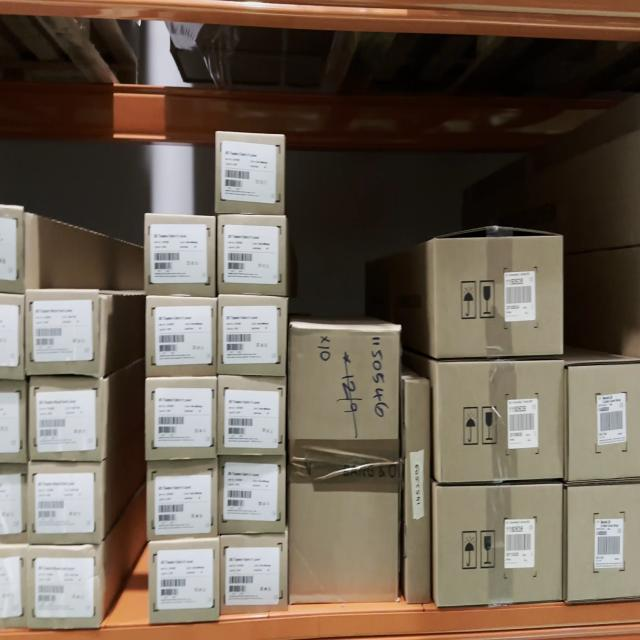box: (288, 326, 398, 600), (434, 360, 566, 484), (433, 237, 565, 360), (433, 480, 562, 601), (569, 364, 640, 485), (568, 484, 640, 598), (26, 289, 104, 376), (404, 376, 434, 602), (29, 458, 104, 546), (144, 294, 218, 376), (26, 378, 101, 458), (27, 548, 102, 628), (216, 129, 285, 215), (144, 215, 218, 295), (146, 458, 220, 538), (144, 379, 218, 458), (148, 541, 219, 622), (218, 375, 282, 459), (218, 294, 284, 374), (219, 210, 284, 288), (222, 530, 286, 609), (220, 458, 286, 527)
